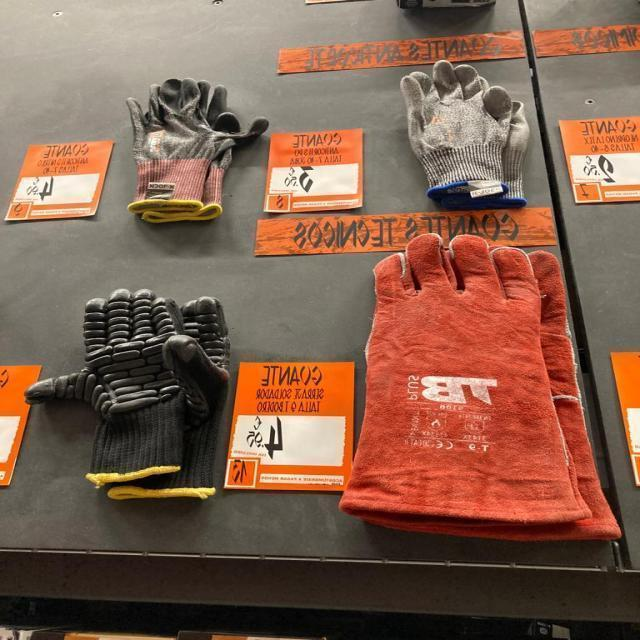gloves: (62, 294, 218, 514), (394, 60, 516, 198)
